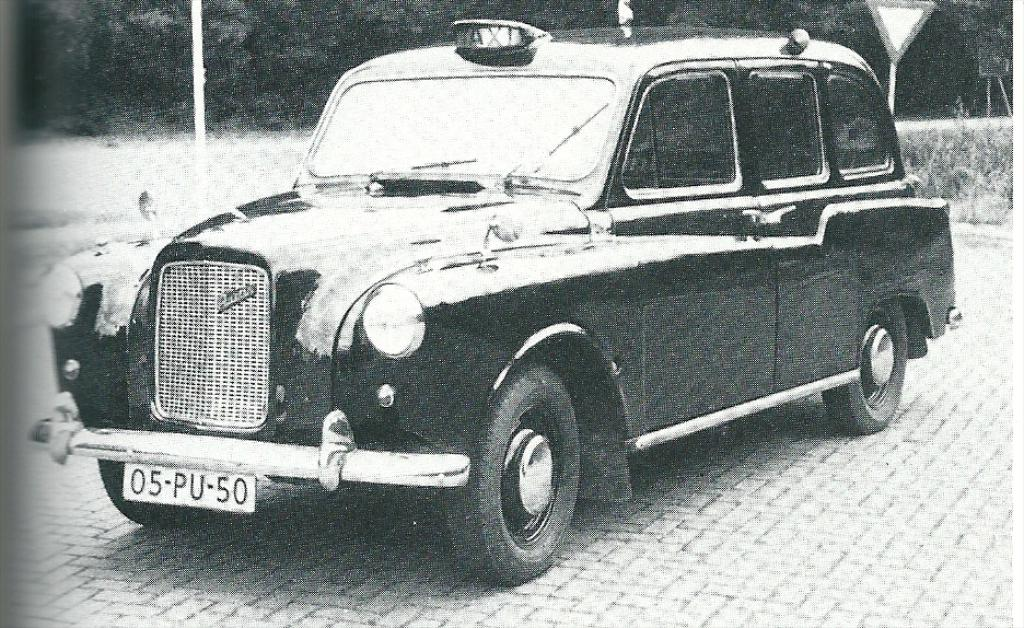Car: (25, 19, 962, 586)
